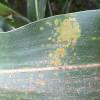Corn rust leaf: (0, 8, 99, 99)
